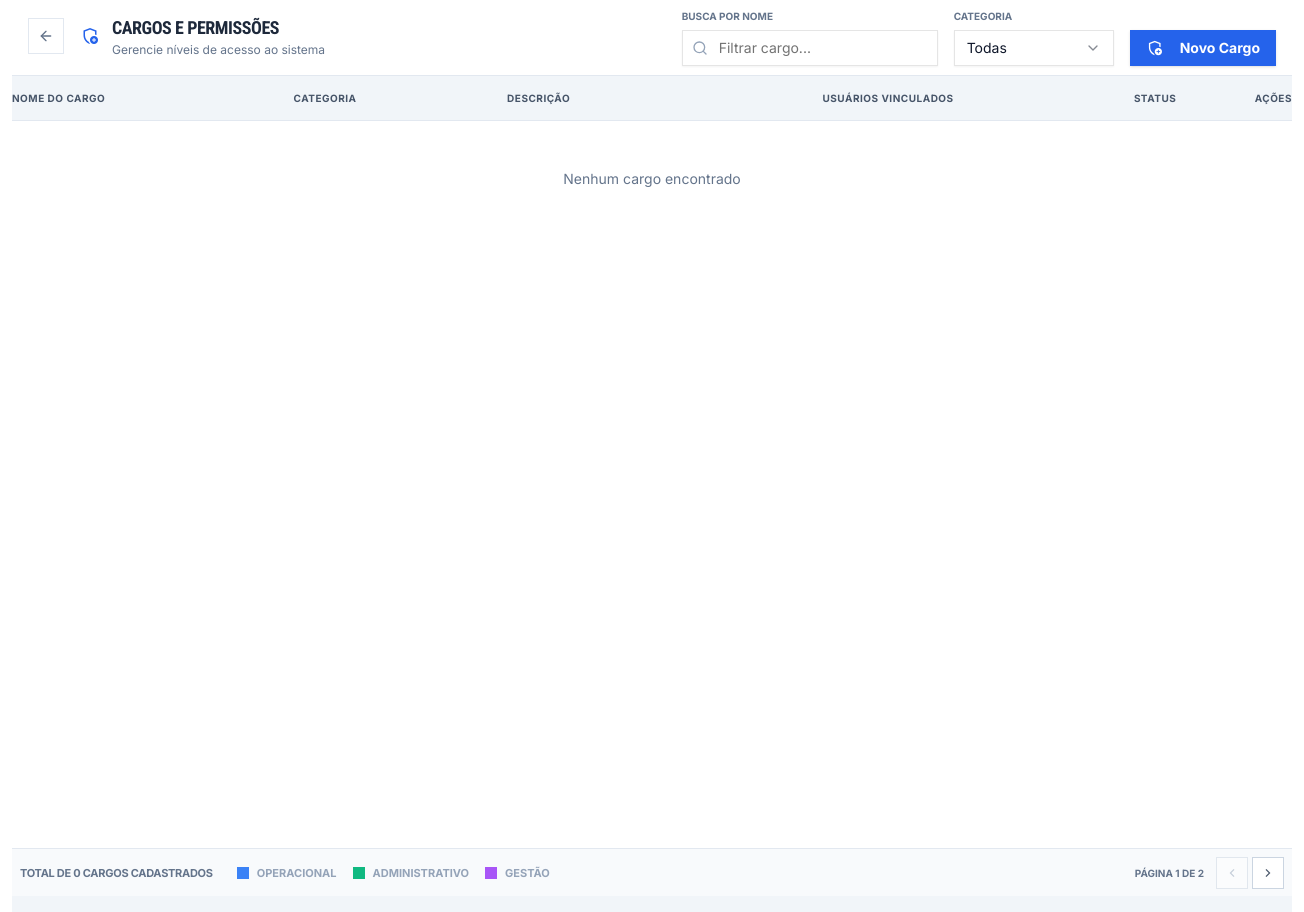
Test: CargosPage › lista vazia, total no rodapé e paginação: avançar, voltar, botões desabilitados nas bordas
The width and height of the screenshot is (1304, 912).
Expected: the text "Nenhum cargo encontrado" is shown, [12,120,1292,237]
Expected: the text "Total de 0 cargos cadastrados" is shown, [20,862,213,882]
Click the 4th button.
click(1268, 872)  # box [1252,856,1284,888]
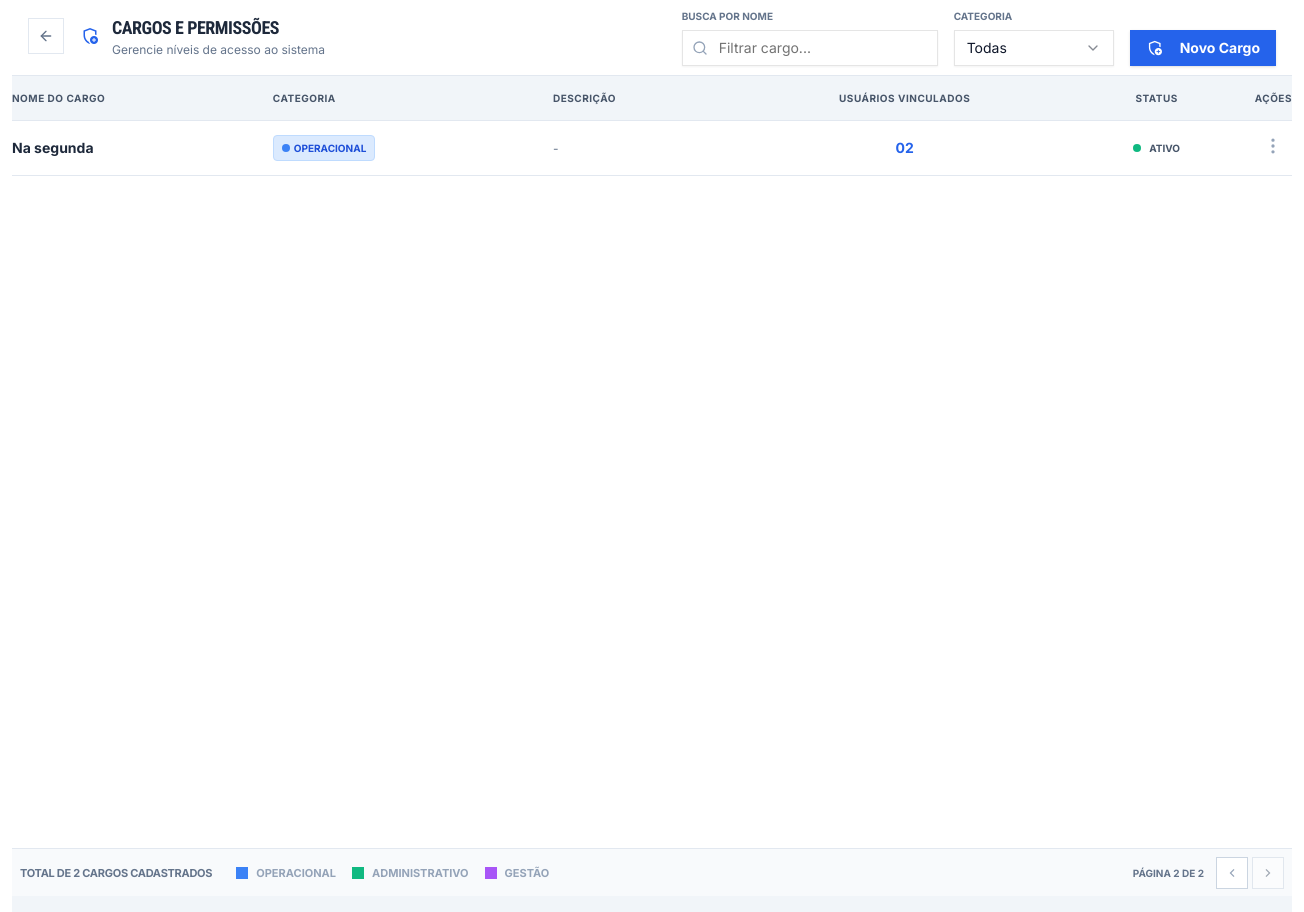
Expected: the text "Na segunda" is shown, [12,139,94,156]
Click the 4th button.
click(1232, 872)  # box [1216,856,1248,888]
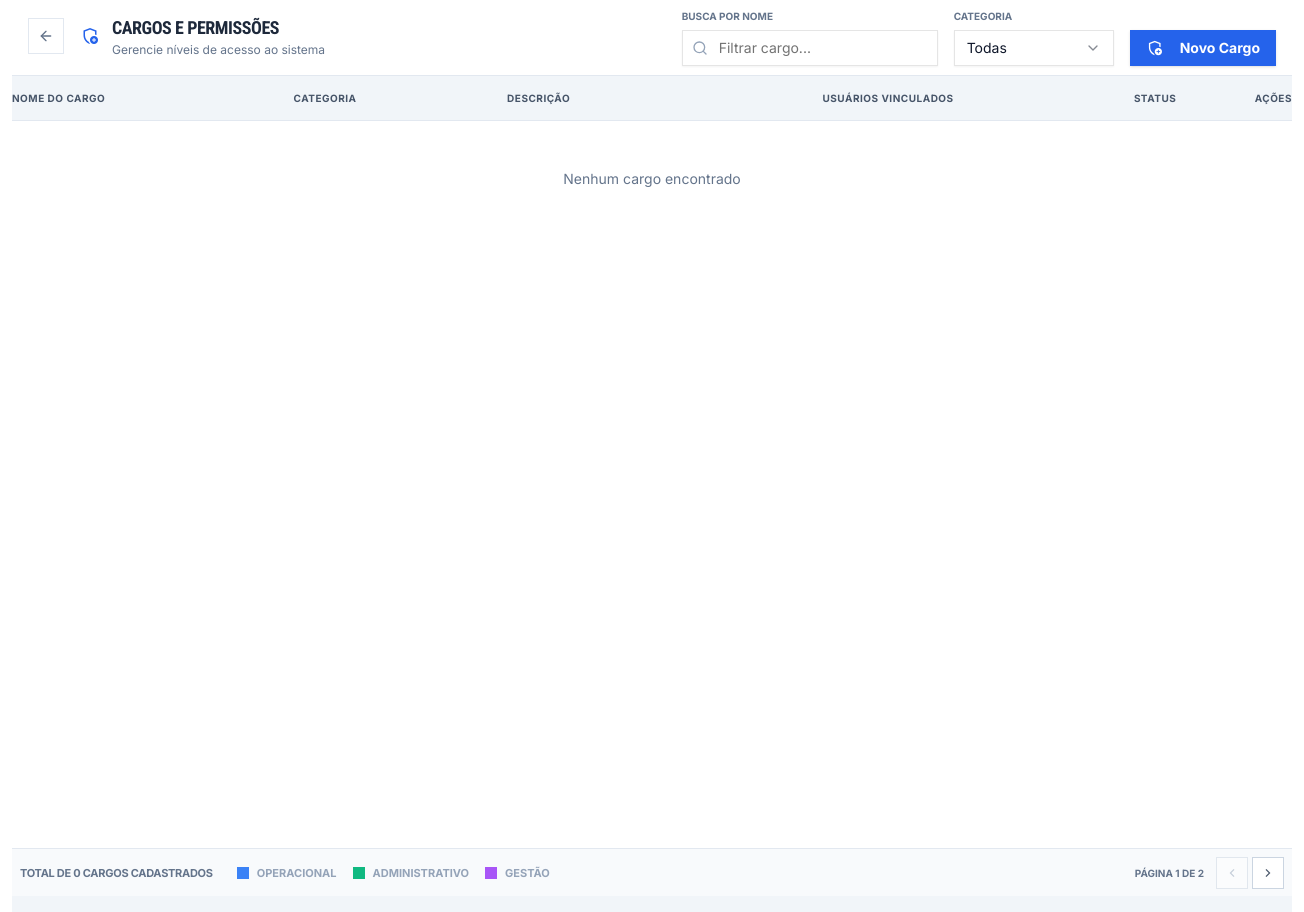
Expected: the text "Nenhum cargo encontrado" is shown, [12,120,1292,237]
